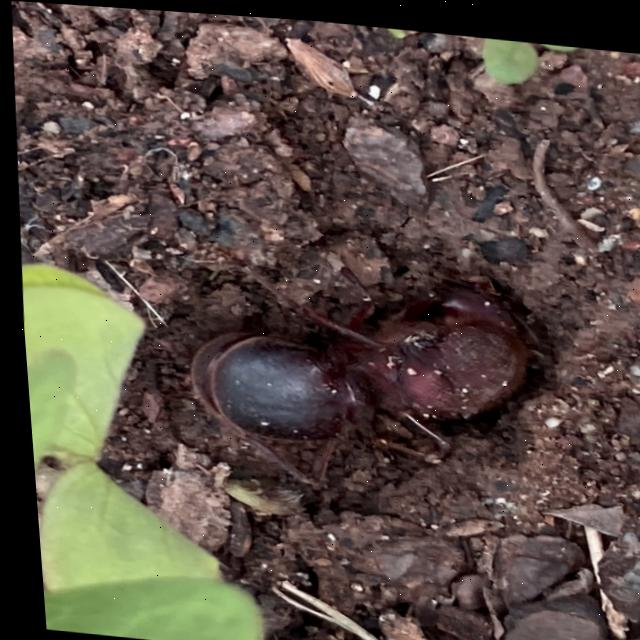Alive-Female-Dealate: (173, 239, 538, 502)
